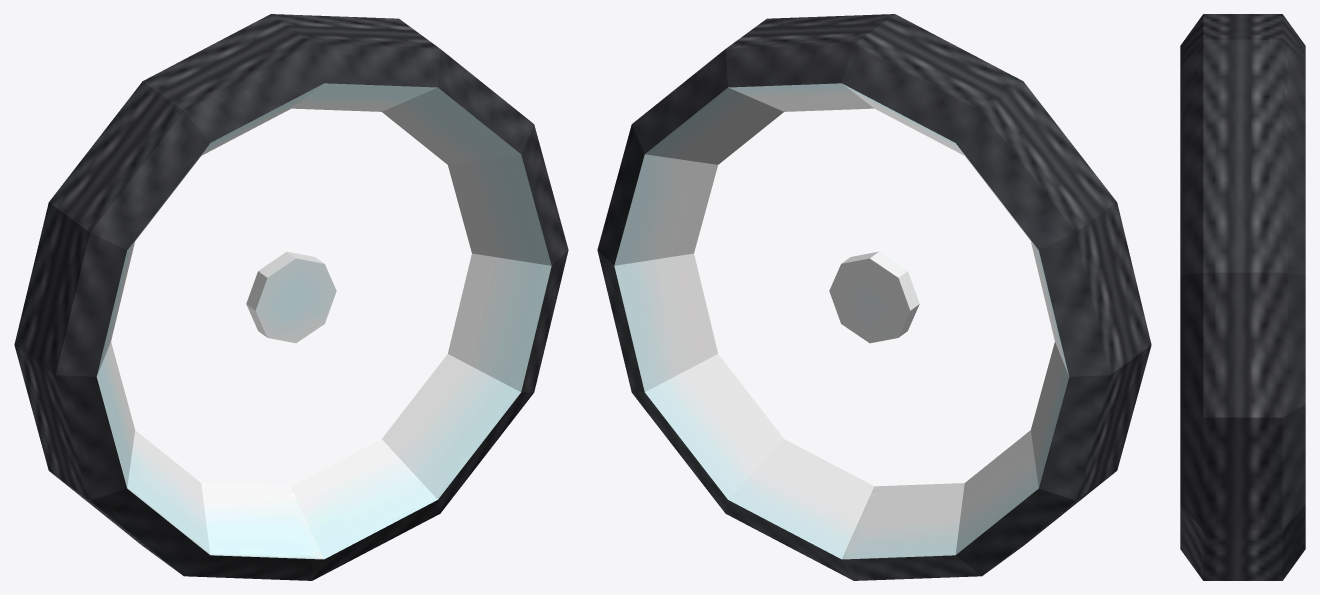
File: medskinnywheel.glb
3 renders of one model, left to right at view 1: azimuth 30°, elevation 25°; view 2: azimuth 150°, elevation 25°; view 3: azimuth 270°, elevation 25°, orthographic. The views are drawn at different scales.
Parts seen in each view (by area): view 1: wheel8; view 2: wheel8; view 3: wheel8.
Boxes of the visible parts, x1,y1,x2,y2 form: wheel8: (14, 14, 568, 580); wheel8: (597, 14, 1151, 580); wheel8: (1180, 14, 1305, 580).
Size of the model in its own units: 1.97 by 1.97 by 0.4353.
1 material, 1 textured.
